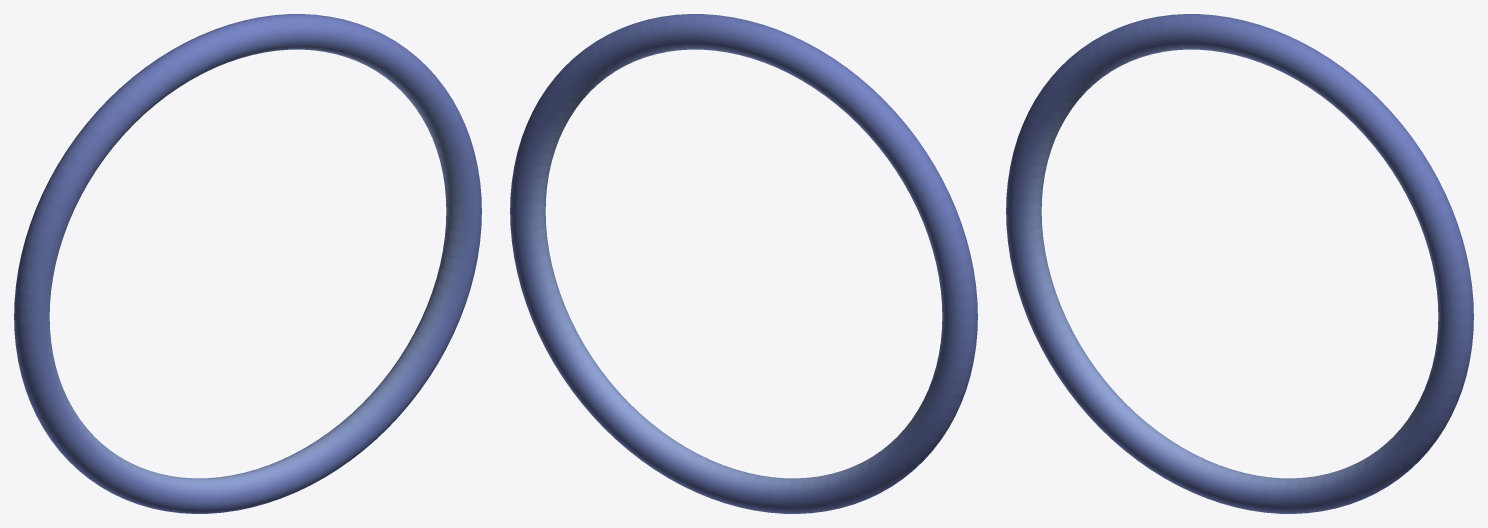
3 views of the same model, side by side, from view 1: azimuth 30°, elevation 25°; view 2: azimuth 150°, elevation 25°; view 3: azimuth 330°, elevation 25° (orthographic).
Visible parts, largest first — view 1: world; view 2: world; view 3: world.
Part boxes in pixels (x1,y1,x2,y2): world: (14, 14, 481, 513); world: (510, 14, 977, 513); world: (1006, 14, 1473, 513).
Bounding box in the file's own units: 30 × 30 × 2.
